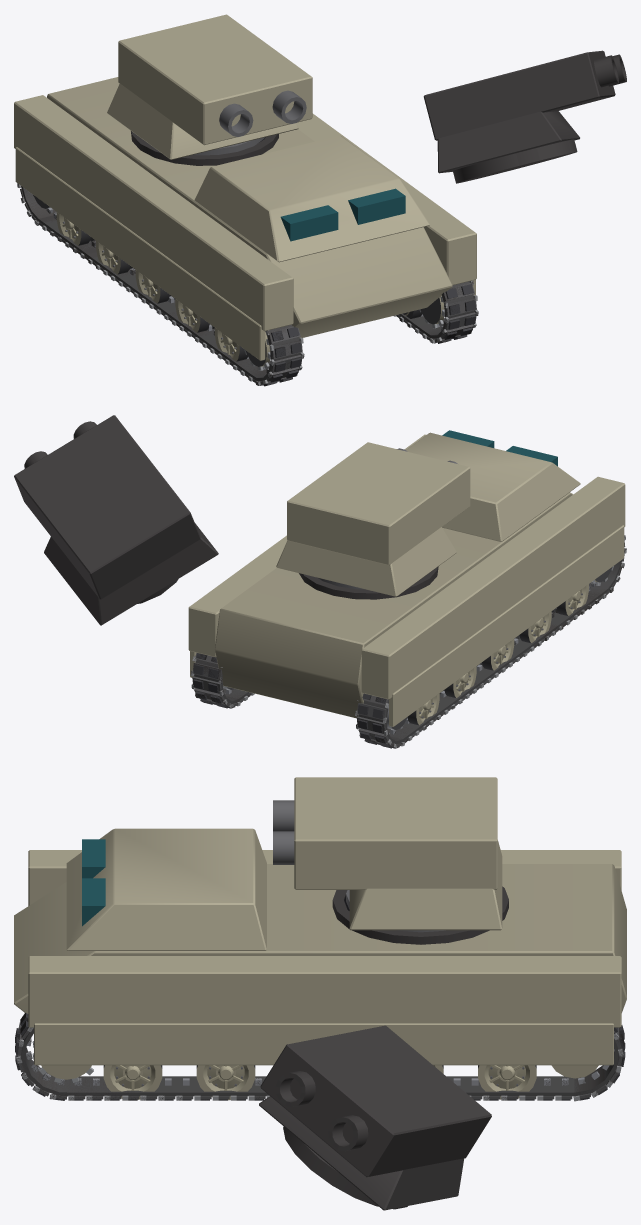
File: mineClearer__type_92_mbrs.glb
The picture shows the model from 3 angles, top to bottom: view 1: azimuth 30°, elevation 25°; view 2: azimuth 150°, elevation 25°; view 3: azimuth 270°, elevation 25°; orthographic projection. The views are drawn at different scales.
Parts seen in each view (by area): view 1: Hull_Mesh, Wreck, Gun_Mesh, Track_L_Mesh, Turret_Mesh, Track_R_Mesh, Wheel_L0_Mesh, Wheel_L3_Mesh, Wheel_L2_Mesh, Wheel_L1_Mesh, Wheel_L4_Mesh; view 2: Hull_Mesh, Wreck, Gun_Mesh, Turret_Mesh, Track_L_Mesh, Track_R_Mesh, Wheel_L3_Mesh, Wheel_L4_Mesh, Wheel_L2_Mesh, Wheel_L1_Mesh, Wheel_L0_Mesh; view 3: Hull_Mesh, Wreck, Gun_Mesh, Track_R_Mesh, Turret_Mesh, Wheel_R4_Mesh, Wheel_R3_Mesh, Wheel_R0_Mesh, Sprocket_R_Mesh.
Boxes of the visible parts, x1,y1,x2,y2 form: Hull_Mesh: [14, 77, 476, 360]; Wreck: [17, 50, 626, 386]; Gun_Mesh: [118, 14, 312, 145]; Track_L_Mesh: [17, 183, 304, 386]; Turret_Mesh: [107, 83, 298, 159]; Track_R_Mesh: [394, 280, 478, 343]; Wheel_L0_Mesh: [56, 212, 95, 245]; Wheel_L3_Mesh: [175, 299, 214, 332]; Wheel_L2_Mesh: [135, 270, 174, 303]; Wheel_L1_Mesh: [96, 241, 134, 274]; Wheel_L4_Mesh: [214, 328, 247, 361]; Hull_Mesh: [188, 430, 625, 726]; Wreck: [14, 415, 625, 747]; Gun_Mesh: [287, 442, 470, 565]; Turret_Mesh: [276, 527, 456, 596]; Track_L_Mesh: [355, 535, 626, 748]; Track_R_Mesh: [190, 653, 254, 708]; Wheel_L3_Mesh: [514, 611, 551, 643]; Wheel_L4_Mesh: [551, 584, 588, 615]; Wheel_L2_Mesh: [477, 639, 514, 670]; Wheel_L1_Mesh: [439, 666, 476, 698]; Wheel_L0_Mesh: [407, 693, 439, 725]; Hull_Mesh: [14, 828, 626, 1065]; Wreck: [15, 886, 624, 1210]; Gun_Mesh: [273, 777, 497, 889]; Track_R_Mesh: [15, 1013, 625, 1101]; Turret_Mesh: [346, 840, 502, 932]; Wheel_R4_Mesh: [103, 1065, 162, 1099]; Wheel_R3_Mesh: [196, 1065, 255, 1100]; Wheel_R0_Mesh: [478, 1065, 536, 1099]; Sprocket_R_Mesh: [32, 1041, 93, 1083].
Size of what is drawn, in the model's own units: 7.12 by 2.7 by 6.38.
